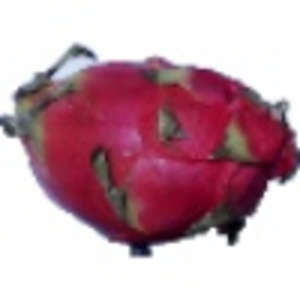pitaia: (1, 41, 300, 259)
